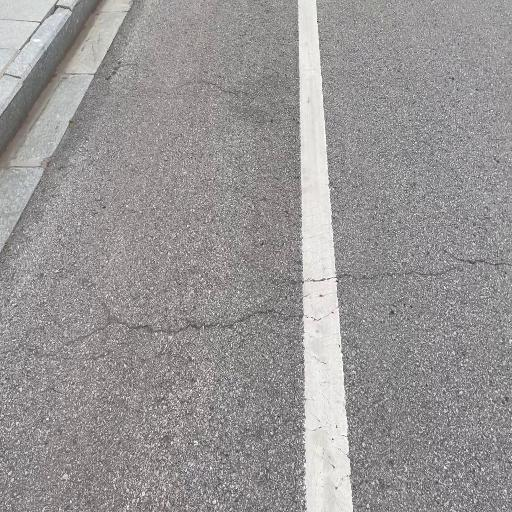Melintang: (34, 300, 301, 358), (297, 246, 512, 296)
